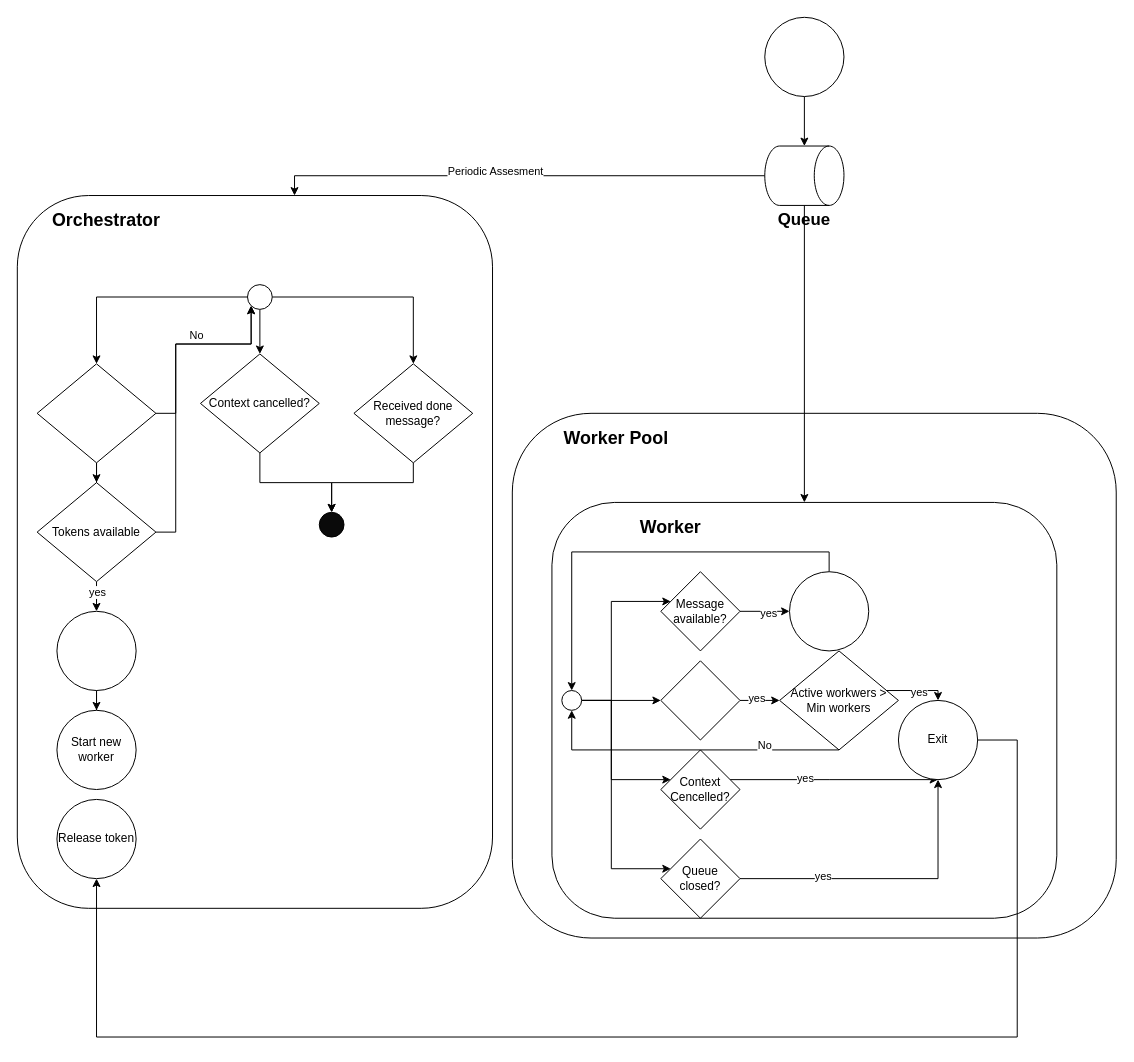
This 1134x1062 diagram has some shape labels left out. Here are the shapes that lost their labels. From the top down, the centre of each, then its label:
At (804,56): "Producer".
At (96,413): "Queue > capacity threshold".
At (829,611): "Process Message".
At (96,650): "Reserve new token".
At (700,700): "Idle time has passed?".
